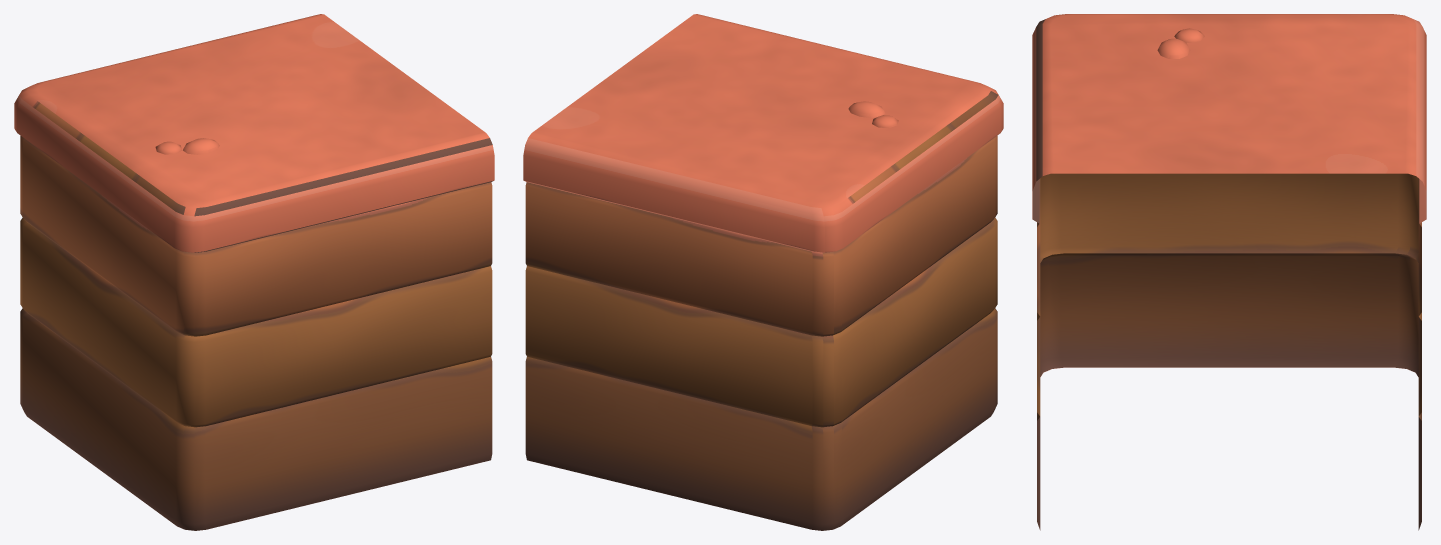
Rendered from wall_end.glb.
3 views of the same model, side by side, from view 1: azimuth 30°, elevation 25°; view 2: azimuth 150°, elevation 25°; view 3: azimuth 270°, elevation 25° (orthographic). The views are drawn at different scales.
Visible parts, largest first — view 1: wall_end; view 2: wall_end; view 3: wall_end.
Part boxes in pixels (x1,y1,x2,y2): wall_end: (14,14,494,530); wall_end: (523,14,1003,530); wall_end: (1032,14,1426,530).
Bounding box in the file's own units: 1 × 1.02 × 1.
Materials: 2 (2 with a texture image).
